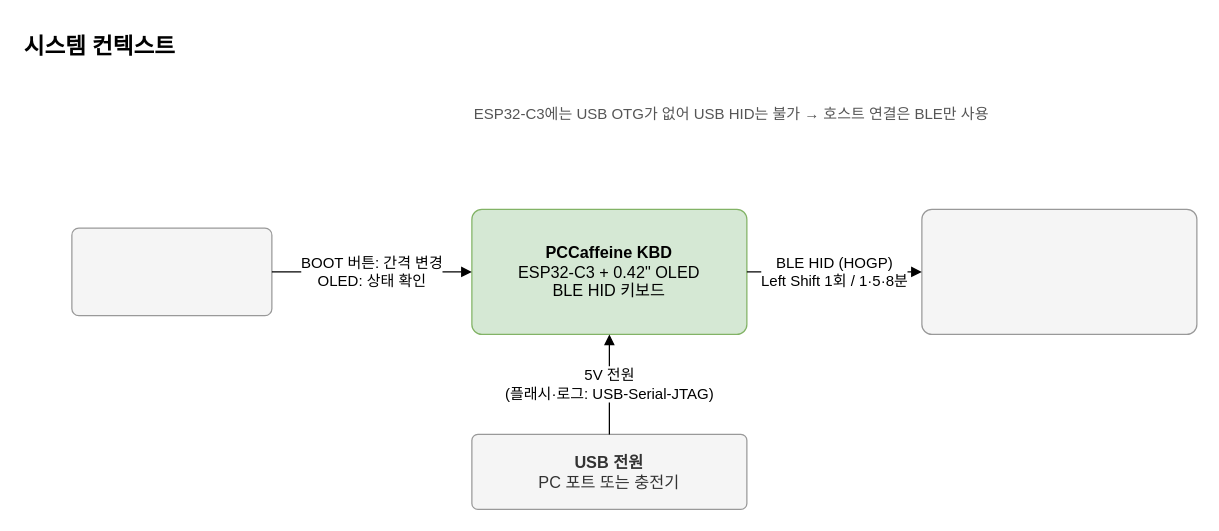
The diagram is 1219 pixels wide and 531 high, and some of its shapes have lost their labels. Each missing label, with the centre of its shape:
Host PC Windows / macOS / Linux 화면보호기 idle 타이머: (x=1059, y=271)
사용자: (x=171, y=271)
